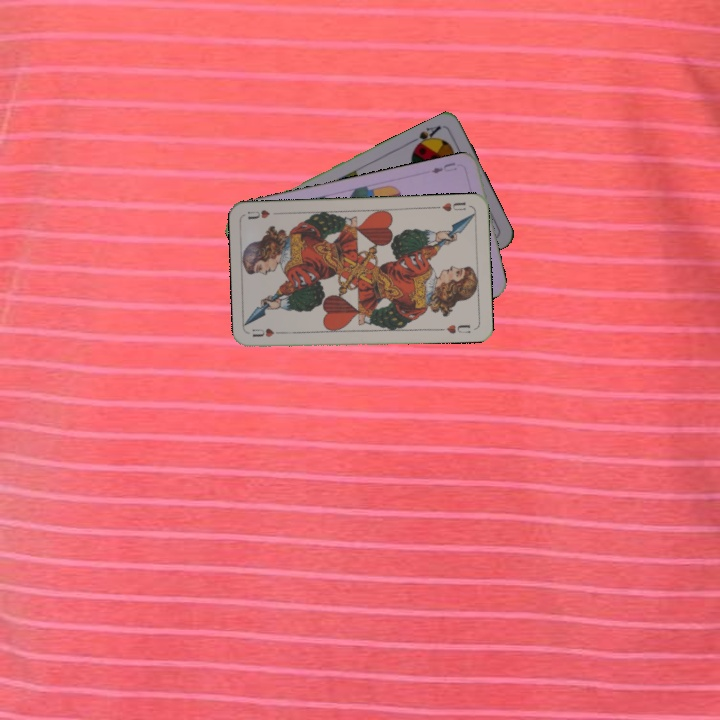EU: (428, 158, 458, 176)
HU: (248, 324, 288, 340), (432, 198, 468, 214)
SA: (407, 122, 443, 151)
